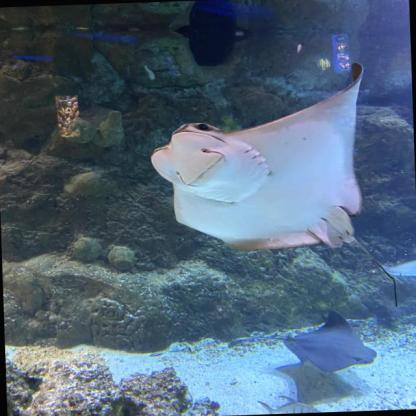fish: (256, 393, 324, 414)
stingray: (148, 63, 369, 255), (280, 306, 377, 375)
